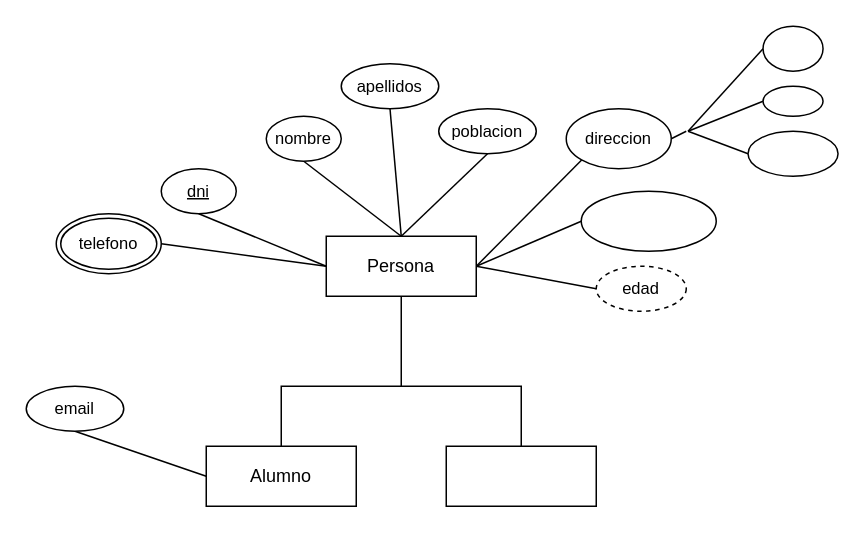
The diagram is 866 pixels wide and 533 high, and some of its shapes have lost their labels. The centre of each missing label's shape, as x and y in pixels:
calle: point (792, 153)
cp: point (792, 100)
fechaNacimiento: point (648, 220)
nro: point (792, 48)
Profesor: point (520, 475)
